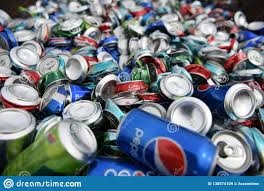metal: (114, 106, 220, 177), (4, 113, 102, 178), (190, 79, 260, 125), (200, 128, 255, 176), (163, 93, 215, 138), (35, 78, 97, 114), (1, 105, 38, 156), (60, 53, 106, 86), (1, 79, 43, 115), (153, 69, 195, 101), (46, 13, 88, 40), (199, 55, 234, 86), (7, 43, 42, 73), (91, 72, 126, 101)
